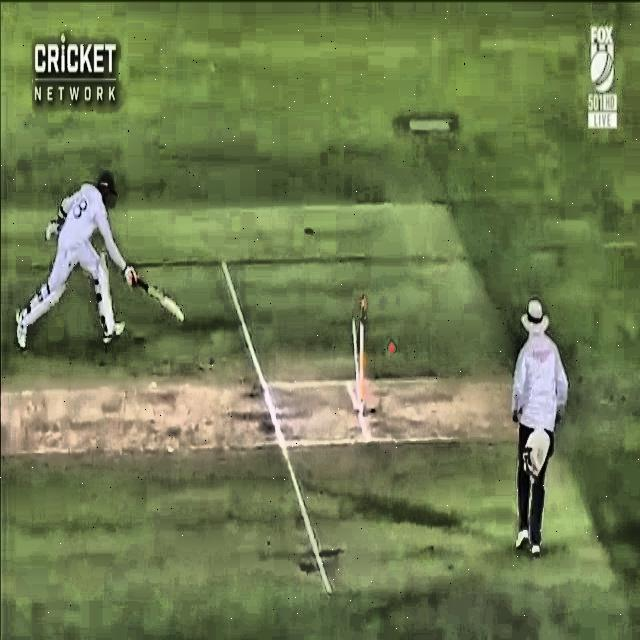Ball: (384, 340, 402, 362)
Bat: (118, 263, 188, 325)
Dis_Wicket: (333, 285, 383, 430)
Pitch_Line: (220, 260, 330, 595)
